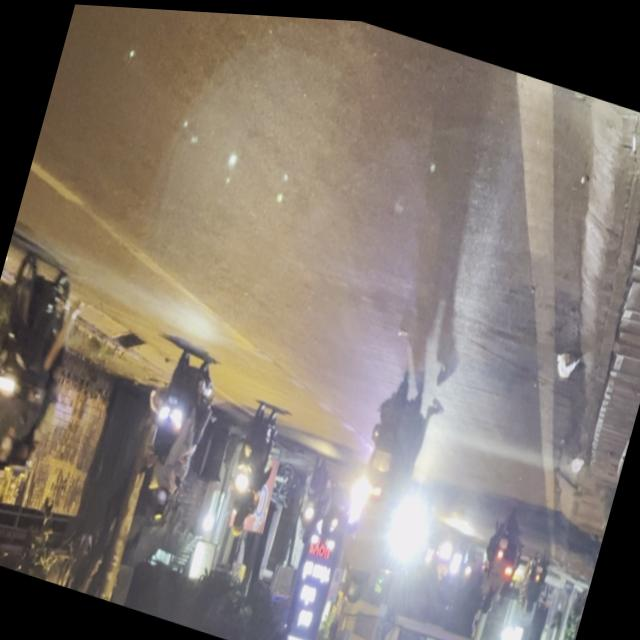helmet: (8, 428, 38, 476), (0, 429, 18, 471)
licenseplate: (0, 243, 91, 486)
